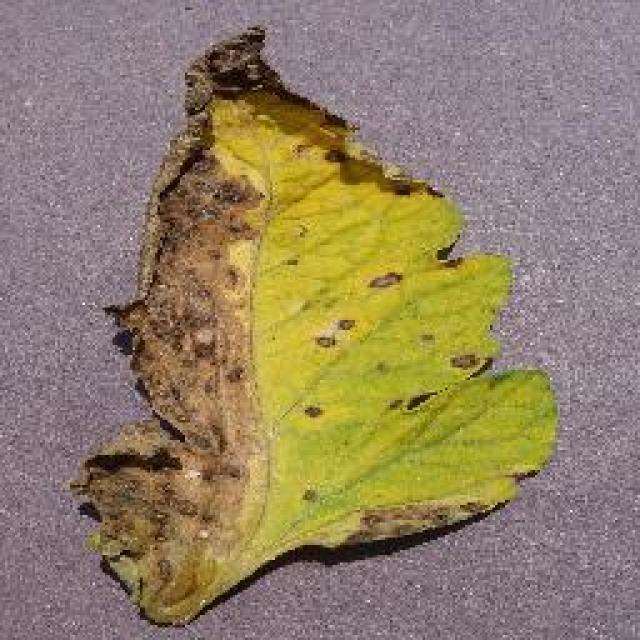Tomato target spot leaf: (72, 27, 552, 625)
